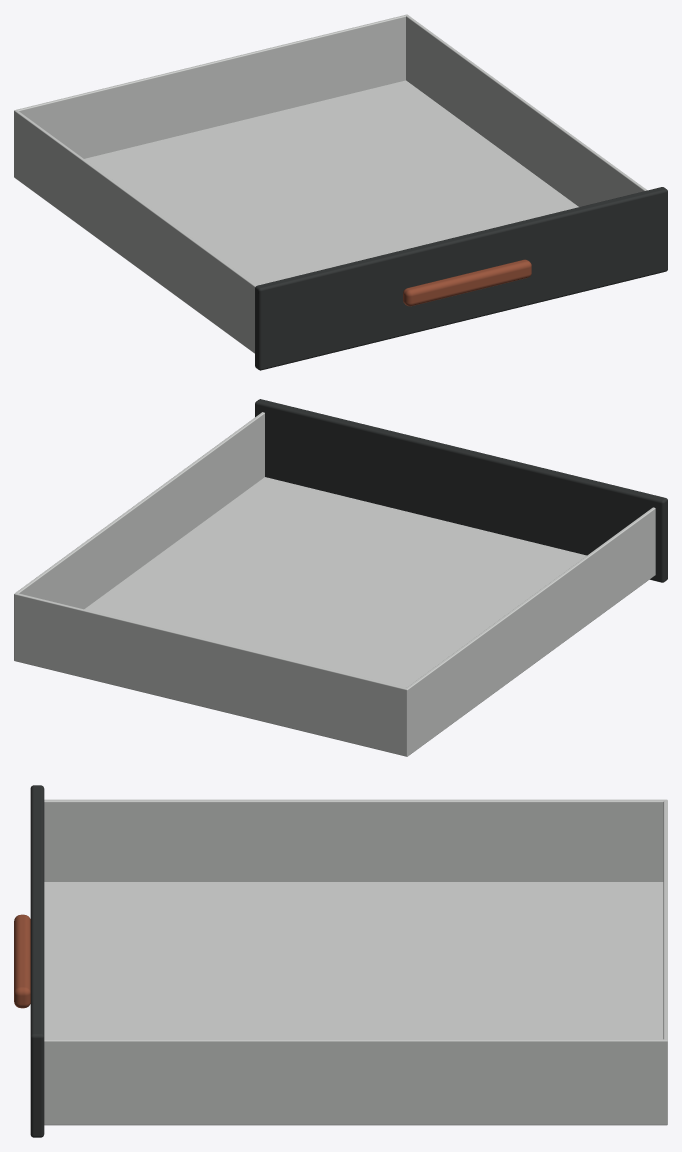
File: packing_station_drawer.glb
3 renders of one model, top to bottom at view 1: azimuth 30°, elevation 25°; view 2: azimuth 150°, elevation 25°; view 3: azimuth 270°, elevation 25°, orthographic. The views are drawn at different scales.
Visible parts, largest first — view 1: packing_station_drawer_steel, packing_station_drawer_graphite, packing_station_drawer_accent; view 2: packing_station_drawer_steel, packing_station_drawer_graphite; view 3: packing_station_drawer_steel, packing_station_drawer_graphite, packing_station_drawer_accent.
Boxes of the visible parts, x1,y1,x2,y2 form: packing_station_drawer_steel: (14, 14, 647, 353); packing_station_drawer_graphite: (255, 187, 667, 370); packing_station_drawer_accent: (403, 259, 531, 306); packing_station_drawer_steel: (14, 412, 655, 756); packing_station_drawer_graphite: (255, 399, 667, 582); packing_station_drawer_steel: (44, 799, 667, 1125); packing_station_drawer_graphite: (30, 785, 44, 1137); packing_station_drawer_accent: (14, 914, 30, 1008).
Bounding box in the file's own units: 0.52 × 0.1 × 0.5725.
